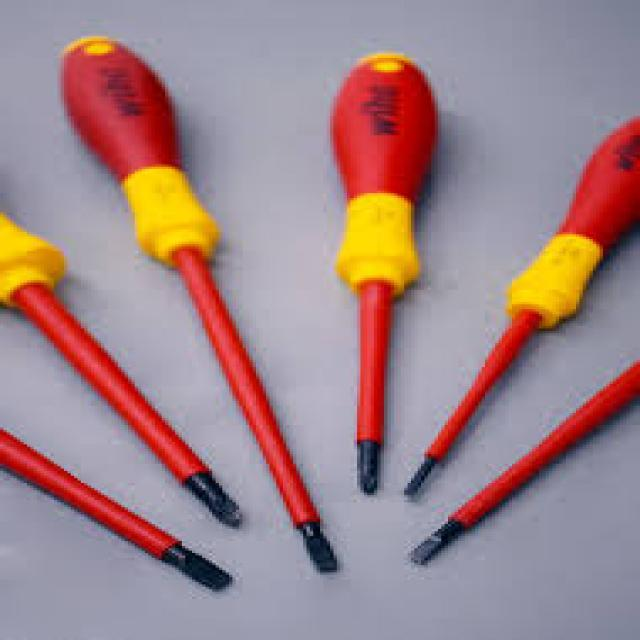screwdriver: (51, 28, 350, 576), (396, 102, 640, 502), (0, 202, 252, 530), (318, 44, 446, 502), (406, 336, 640, 569), (0, 418, 239, 594)
